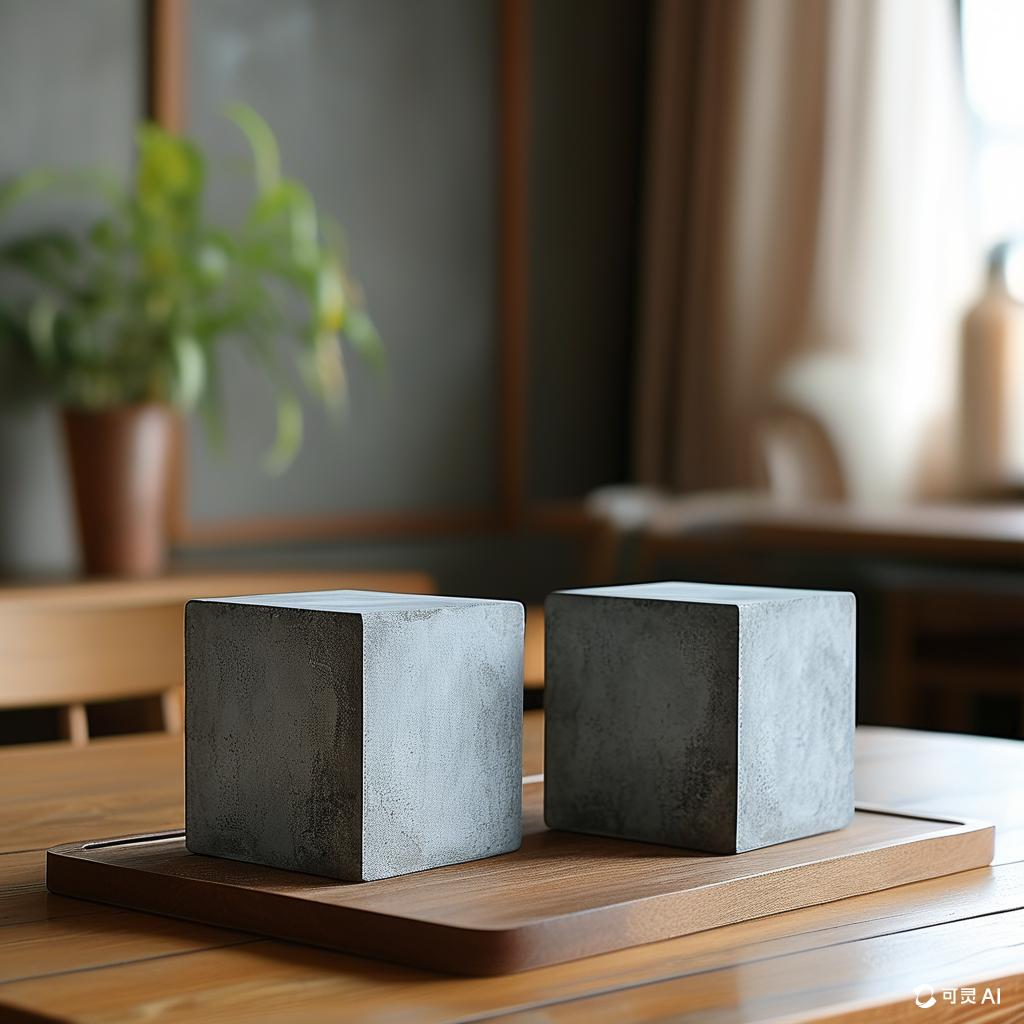cube: (182, 587, 525, 882), (541, 579, 856, 855)
